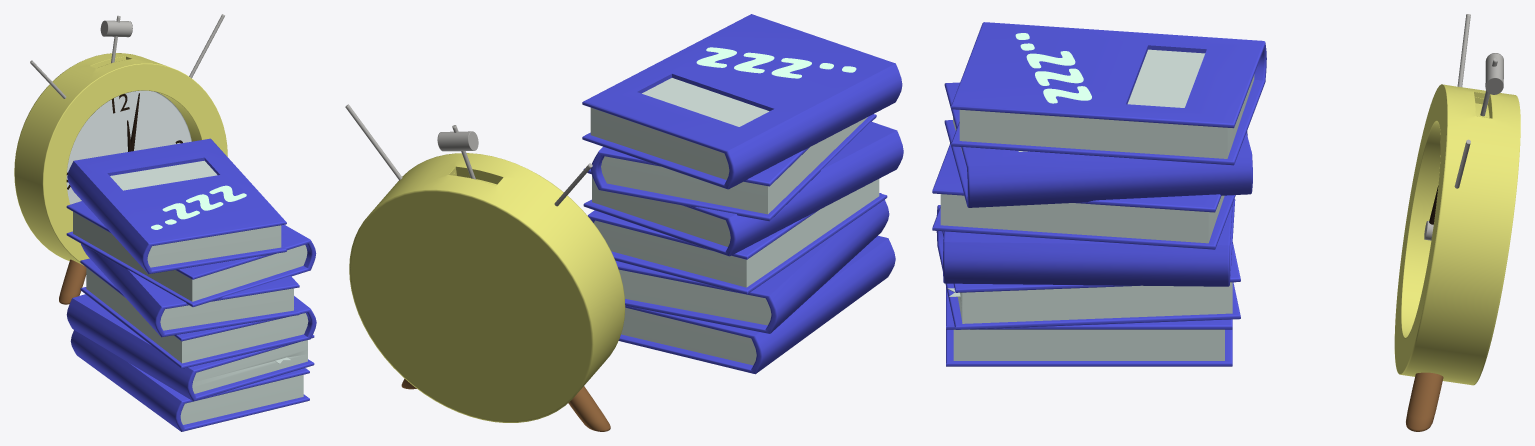
Rendered from yumelog.glb.
3 views of the same model, side by side, from view 1: azimuth 30°, elevation 25°; view 2: azimuth 150°, elevation 25°; view 3: azimuth 270°, elevation 25° (orthographic). The views are drawn at different scales.
Visible parts, largest first — view 1: 円柱, Cube.005, Cube.001, Cube.004, Cube, Cube.002, Cube.003, テキスト.004, 円柱.006, 円柱.007, 円柱.004; view 2: 円柱, Cube.005, Cube.003, Cube.001, Cube, Cube.002, Cube.004, テキスト.004, 円柱.006, 円柱.007, 円柱.004; view 3: Cube.005, 円柱, Cube.004, Cube.002, Cube.003, Cube, Cube.001, テキスト.004, 円柱.006, 円柱.007, 円柱.004.
Boxes of the visible parts, left/top/right/bottom form: 円柱: left=14, top=53, right=227, bottom=265; Cube.005: left=67, top=138, right=286, bottom=274; Cube.001: left=66, top=294, right=314, bottom=401; Cube.004: left=66, top=201, right=316, bottom=306; Cube: left=70, top=330, right=309, bottom=431; Cube.002: left=80, top=258, right=316, bottom=368; Cube.003: left=81, top=244, right=299, bottom=337; テキスト.004: left=151, top=185, right=246, bottom=229; 円柱.006: left=59, top=259, right=86, bottom=304; 円柱.007: left=100, top=20, right=132, bottom=37; 円柱.004: left=30, top=14, right=224, bottom=98; 円柱: left=349, top=153, right=625, bottom=422; Cube.005: left=582, top=14, right=902, bottom=189; Cube.003: left=583, top=121, right=903, bottom=256; Cube.001: left=615, top=193, right=889, bottom=333; Cube: left=618, top=235, right=895, bottom=374; Cube.002: left=588, top=179, right=887, bottom=294; Cube.004: left=591, top=114, right=876, bottom=221; テキスト.004: left=696, top=47, right=856, bottom=78; 円柱.006: left=401, top=378, right=610, bottom=431; 円柱.007: left=437, top=131, right=478, bottom=151; 円柱.004: left=345, top=104, right=592, bottom=206; Cube.005: left=951, top=22, right=1266, bottom=165; 円柱: left=1394, top=84, right=1520, bottom=385; Cube.004: left=944, top=82, right=1252, bottom=207; Cube.002: left=943, top=198, right=1235, bottom=286; Cube.003: left=932, top=131, right=1247, bottom=249; Cube: left=946, top=287, right=1232, bottom=366; Cube.001: left=936, top=205, right=1240, bottom=329; テキスト.004: left=1015, top=33, right=1091, bottom=103; 円柱.006: left=1406, top=372, right=1443, bottom=431; 円柱.007: left=1485, top=53, right=1503, bottom=94; 円柱.004: left=1454, top=14, right=1470, bottom=188.
Size of what is drawn, in the model's own units: 4.18 by 3.7 by 6.02.
